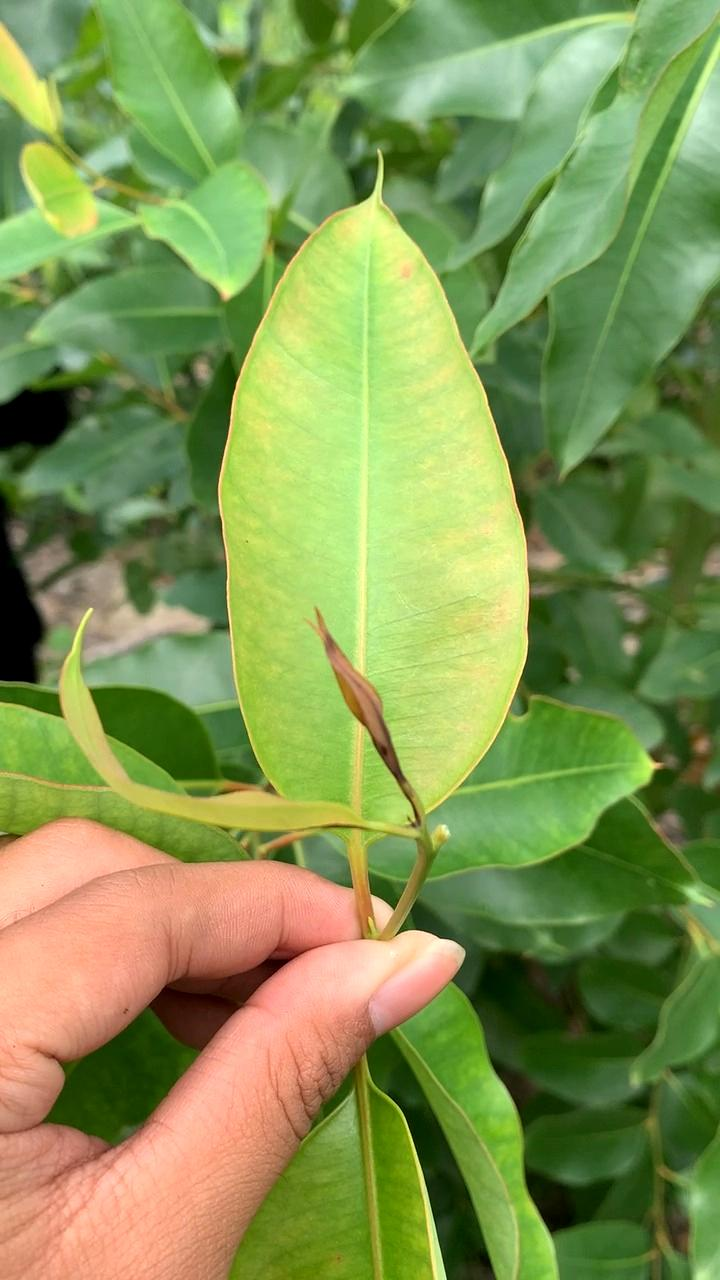Helopeltis-Withered Sprout: (296, 596, 435, 831)
